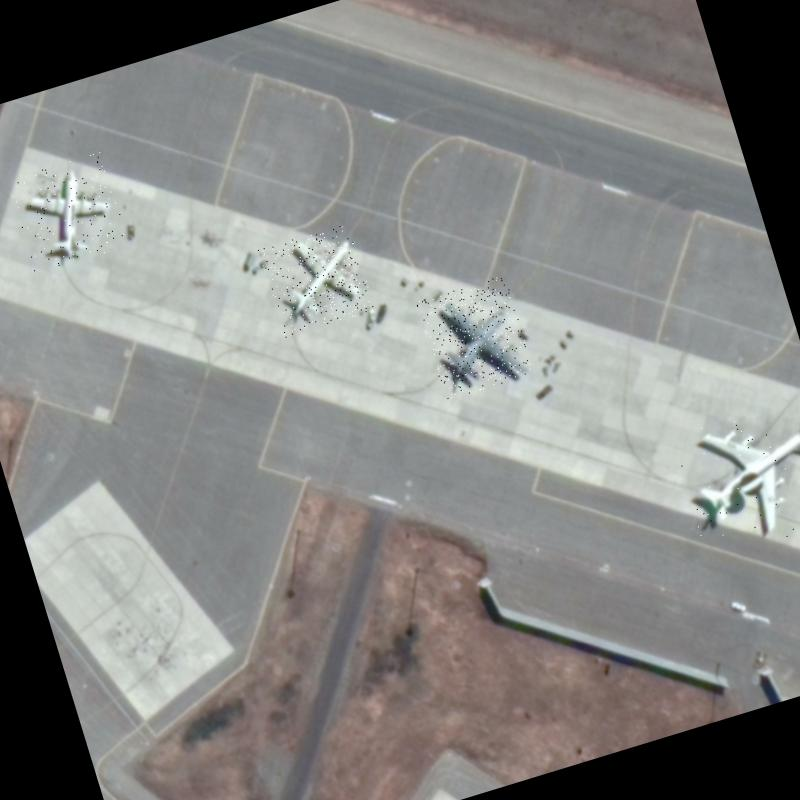A2: (416, 274, 535, 400)
A7: (666, 396, 800, 562)
A9: (7, 151, 131, 274), (258, 222, 376, 338), (468, 204, 471, 208)
